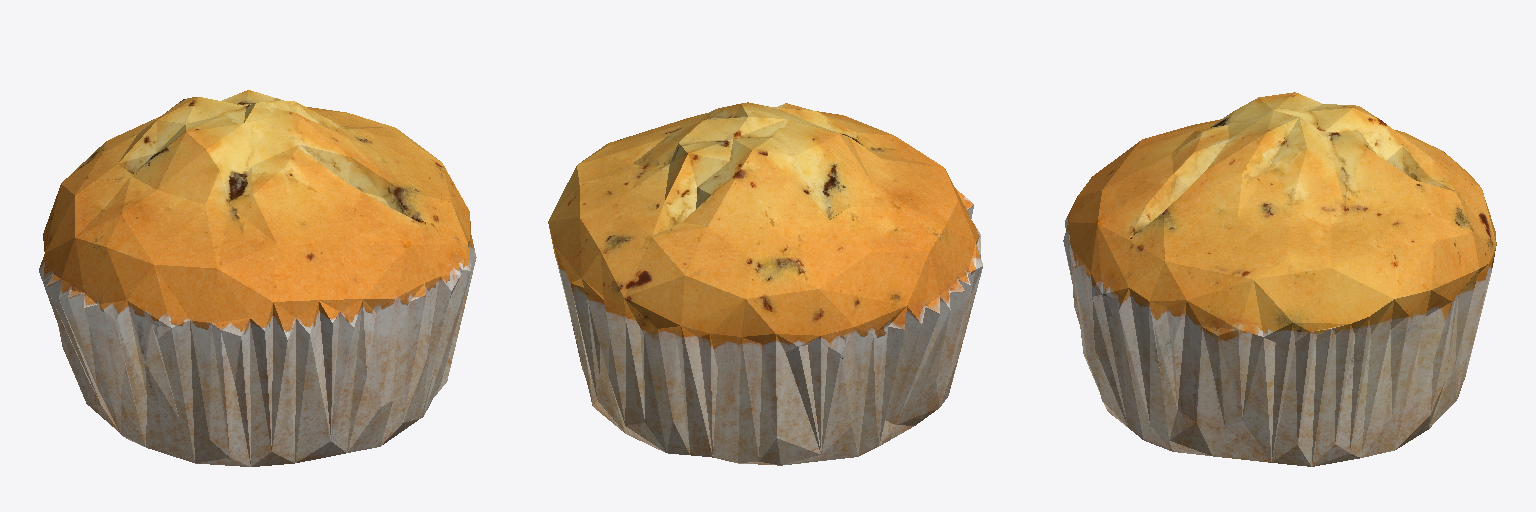
The picture shows the model from 3 angles: view 1: azimuth 30°, elevation 25°; view 2: azimuth 150°, elevation 25°; view 3: azimuth 270°, elevation 25°; orthographic projection.
Parts seen in each view (by area): view 1: 3DCake001_LQ-1K-JPG; view 2: 3DCake001_LQ-1K-JPG; view 3: 3DCake001_LQ-1K-JPG.
Boxes of the visible parts, <box> form: 3DCake001_LQ-1K-JPG: <box>39,90,476,466</box>; 3DCake001_LQ-1K-JPG: <box>548,102,982,465</box>; 3DCake001_LQ-1K-JPG: <box>1063,92,1496,466</box>.
Size of the model in its own units: 1.45 by 1.03 by 1.41.
1 materials, 1 textured.